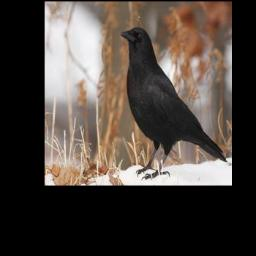Crow: (118, 23, 228, 180)
